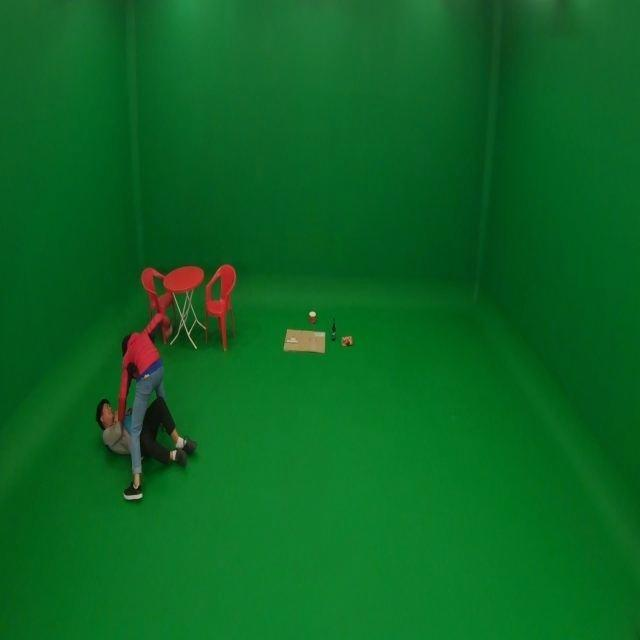fight: (97, 308, 197, 502)
